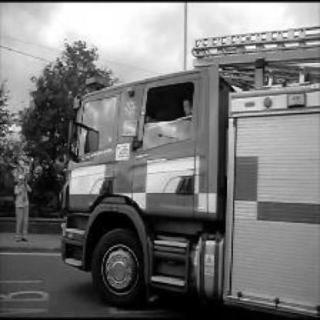other: (59, 78, 230, 208), (237, 159, 320, 217)
